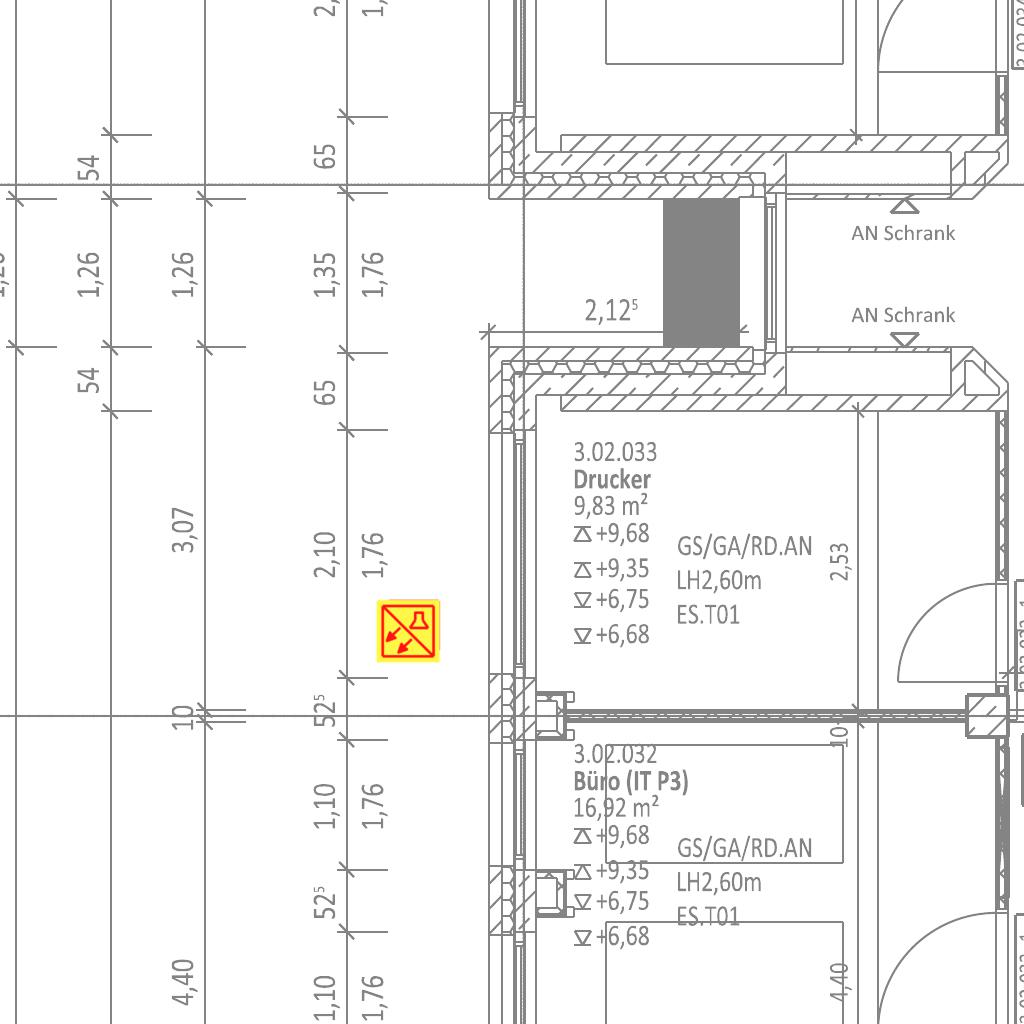OKW_Multisensormelder_(Kombination_optischer_Rauch-Kahlenmonoxid_Waerme-Melder): (375, 598, 441, 664)
